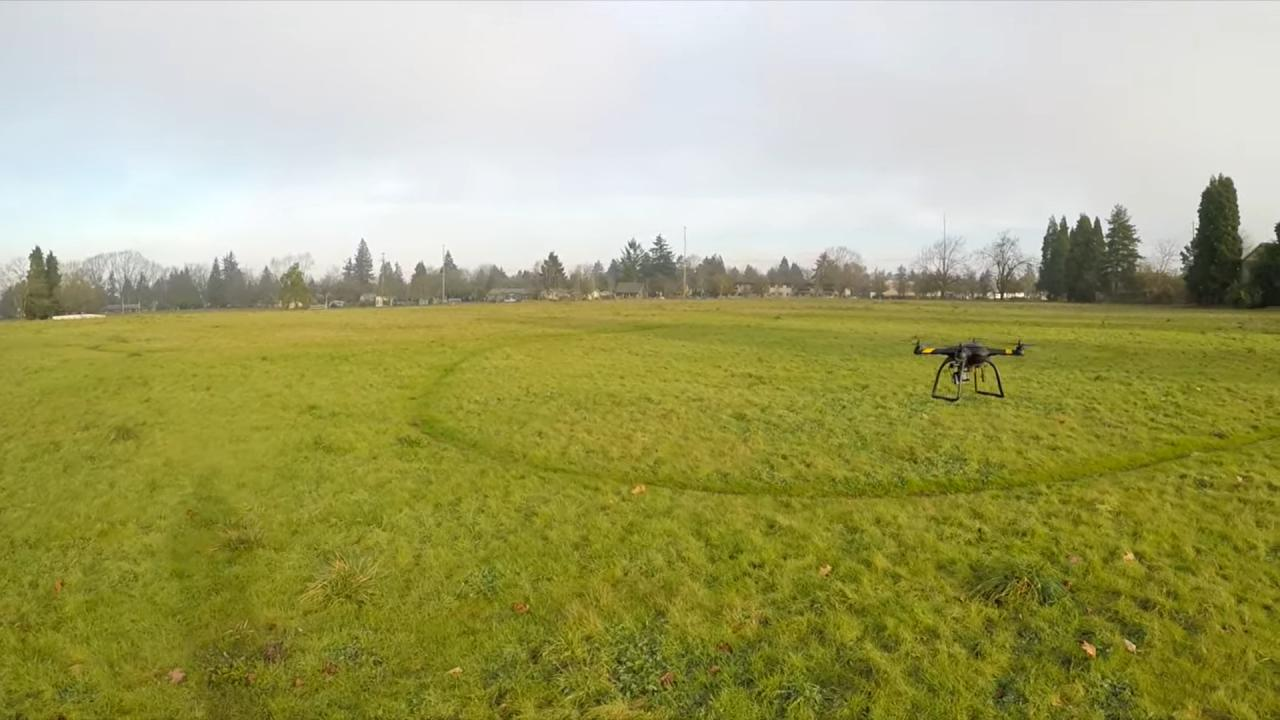Drone: (898, 323, 1048, 412)
